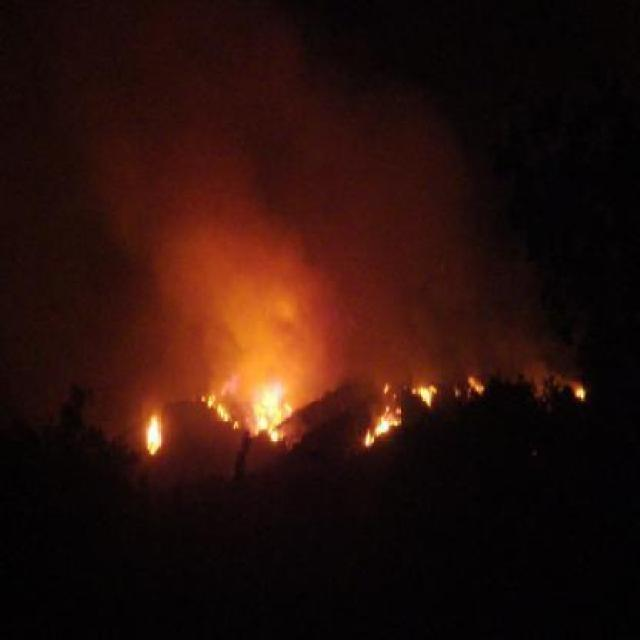Fire: (203, 378, 306, 446), (358, 376, 436, 454), (141, 414, 164, 458), (457, 369, 485, 403), (570, 382, 592, 404)
